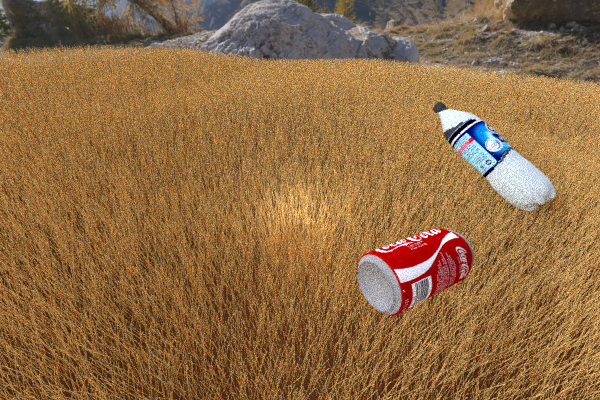Plastic Bottle: (432, 102, 555, 211), (357, 228, 474, 316)
